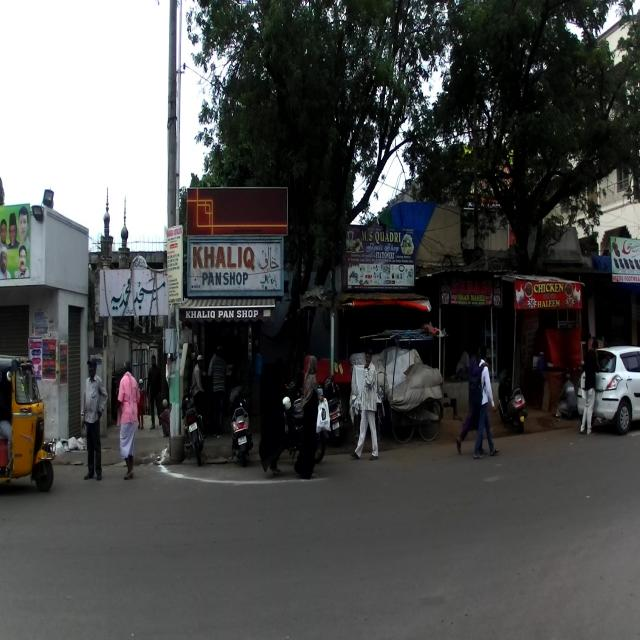autorickshaw: (0, 352, 57, 492)
car: (575, 342, 640, 436)
motorcycle: (177, 379, 207, 468)
scooter: (227, 383, 255, 467), (496, 364, 528, 436)
